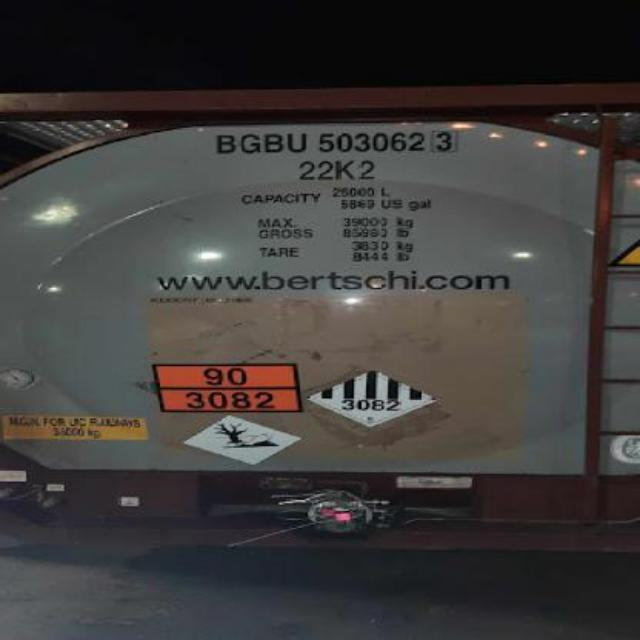0: (370, 132, 390, 152), (336, 132, 354, 152)
2: (408, 132, 428, 152)
3: (434, 130, 456, 152), (354, 132, 372, 152)
5: (316, 132, 338, 152)
6: (390, 132, 408, 152)
B: (214, 134, 238, 154), (262, 132, 286, 152)
G: (236, 134, 264, 154)
U: (286, 132, 308, 152)
